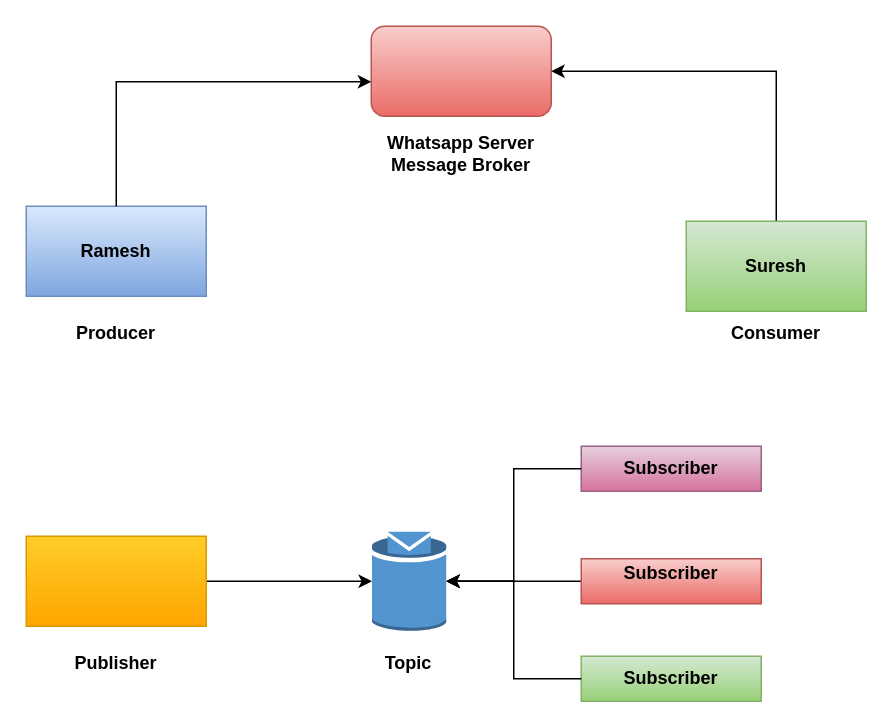
Some shapes in this 893 by 728 pixel diagram are drawn without their labels. The shapes that lost their labels are listed below. From the top down, each one's box as (x1, y1, x2, y2) in pixels, then its label:
(370, 25, 551, 116): Queue
(25, 535, 206, 626): JoinDevOps
